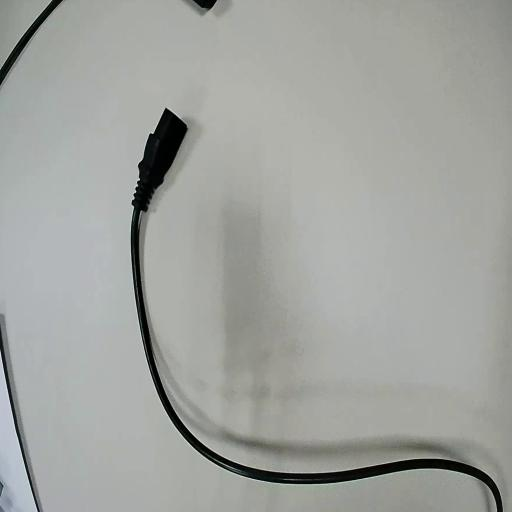wire: (132, 110, 501, 511)
